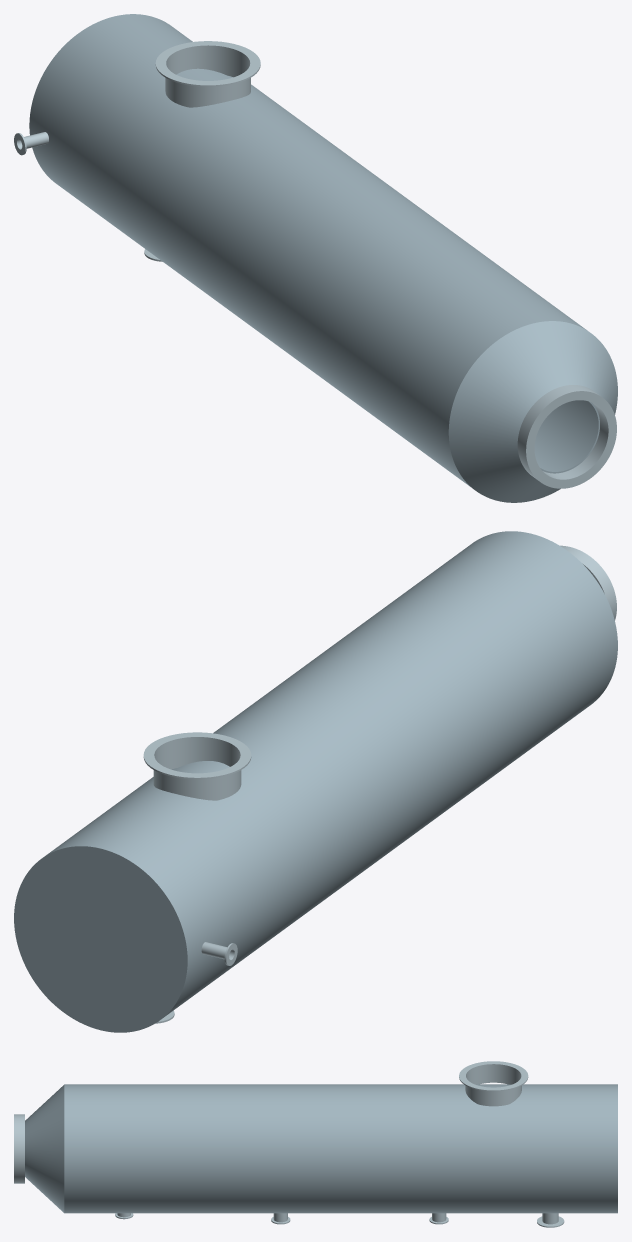
The picture shows the model from 3 angles, top to bottom: view 1: azimuth 30°, elevation 25°; view 2: azimuth 150°, elevation 25°; view 3: azimuth 270°, elevation 25°; orthographic projection. The views are drawn at different scales.
Parts seen in each view (by area): view 1: 本体_塔身, 本体_塔顶收口, 接口_顶部法兰, 接口_北侧大口接管, 接口_北侧大口法兰, 本体_下封底; view 2: 本体_塔身, 本体_下封底, 接口_北侧大口接管, 接口_北侧大口法兰, 接口_顶部法兰; view 3: 本体_塔身, 本体_塔顶收口, 接口_北侧大口接管, 本体_下封底, 接口_北侧大口法兰, 接口_顶部法兰.
Part boxes in pixels (<box>): 本体_塔身: <box>35,18,598,487</box>; 本体_塔顶收口: <box>448,321,617,502</box>; 接口_顶部法兰: <box>517,385,616,488</box>; 接口_北侧大口接管: <box>165,47,250,107</box>; 接口_北侧大口法兰: <box>155,41,260,86</box>; 本体_下封底: <box>29,14,173,185</box>; 本体_塔身: <box>51,531,617,1012</box>; 本体_下封底: <box>14,842,193,1032</box>; 接口_北侧大口接管: <box>153,738,241,800</box>; 接口_北侧大口法兰: <box>143,732,251,779</box>; 接口_顶部法兰: <box>560,545,616,620</box>; 本体_塔身: <box>64,1084,610,1213</box>; 本体_塔顶收口: <box>25,1085,64,1212</box>; 接口_北侧大口接管: <box>465,1065,521,1106</box>; 本体_下封底: <box>610,1084,617,1213</box>; 接口_北侧大口法兰: <box>459,1061,528,1091</box>; 接口_顶部法兰: <box>14,1114,24,1183</box>.
Size of the model in its own units: 2.54 by 2.75 by 10.3.
